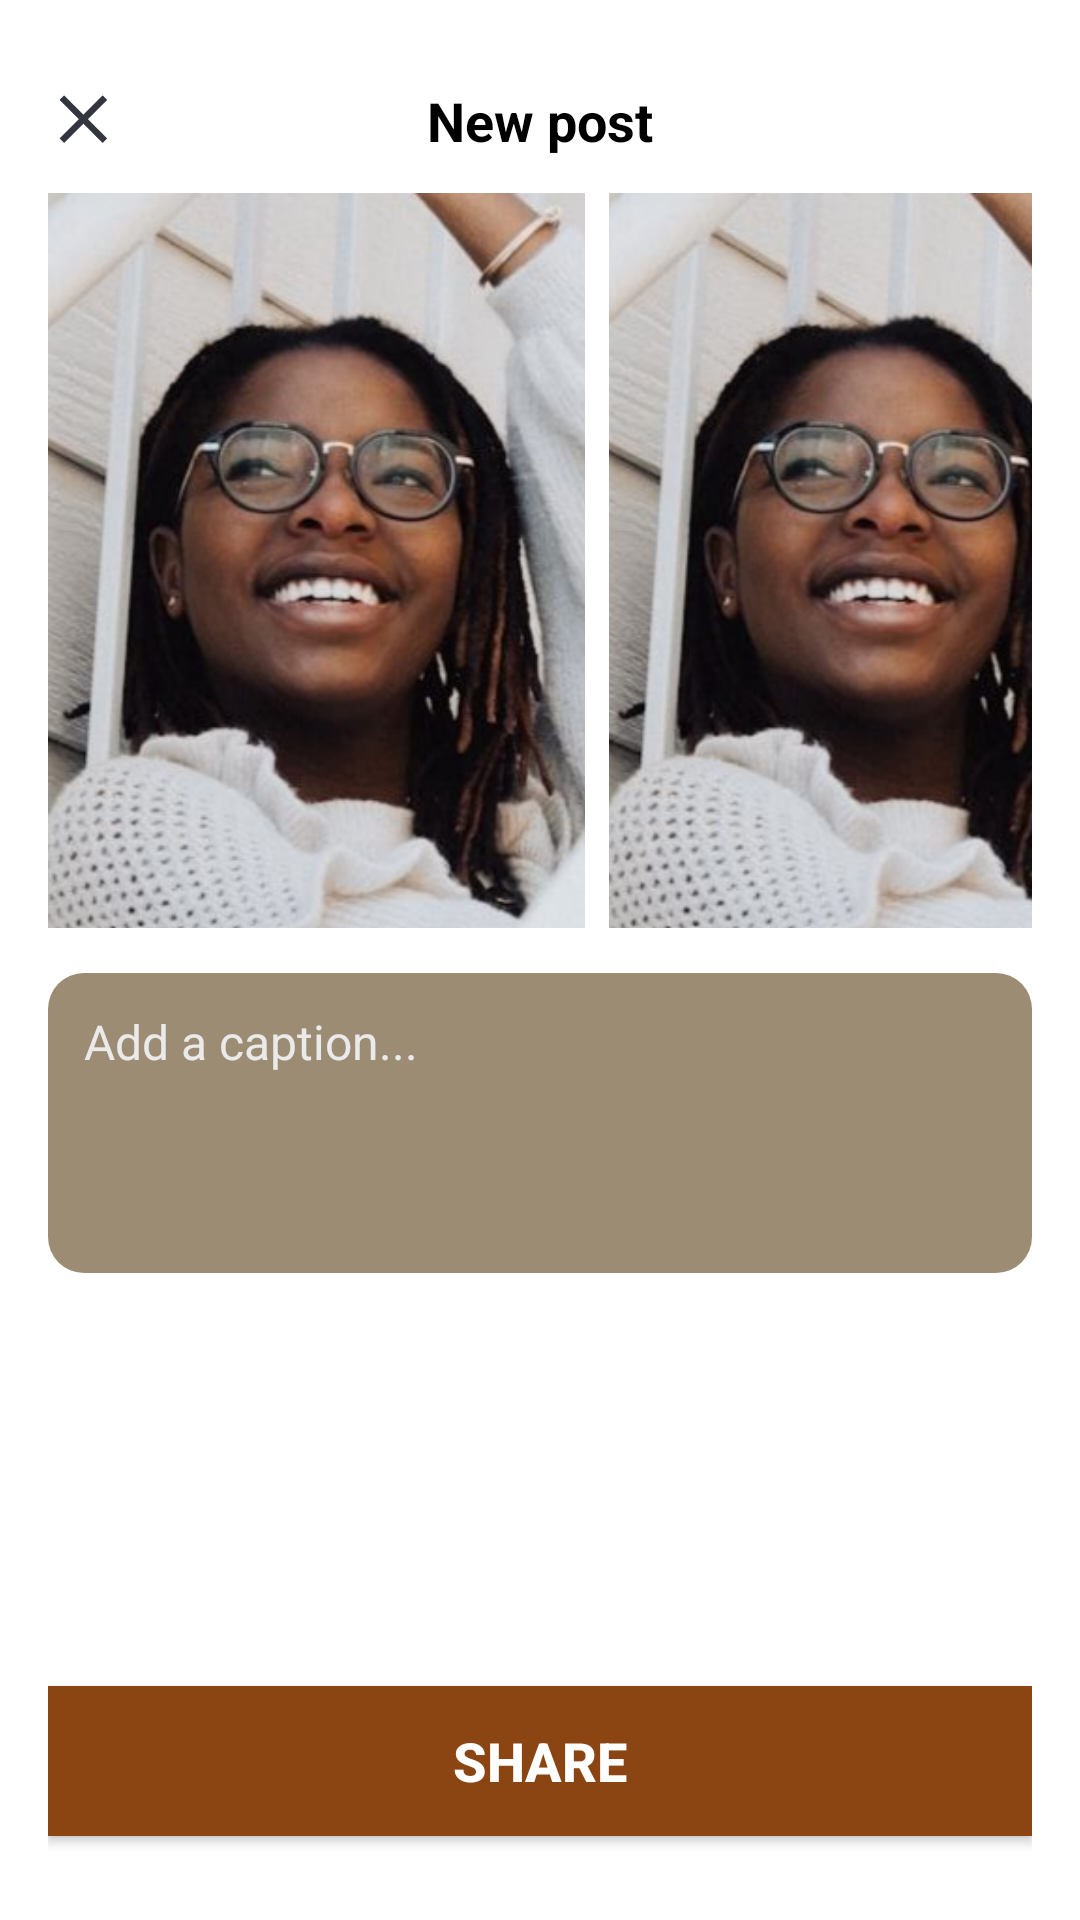

Point at icon controls on the screen. Image size 1080×1920, points as point (x, y).
close: point (83, 119)
